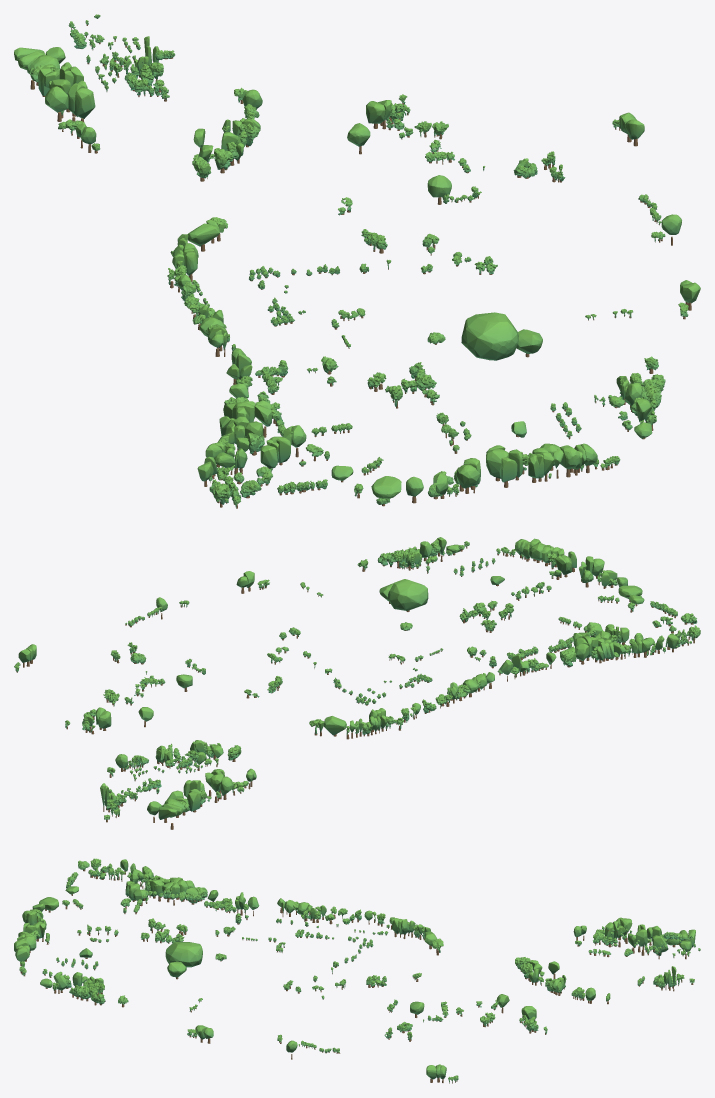
Rendered from trees_solid.glb.
3 renders of one model, top to bottom at view 1: azimuth 30°, elevation 25°; view 2: azimuth 150°, elevation 25°; view 3: azimuth 270°, elevation 25°, orthographic. The views are drawn at different scales.
Visible parts, largest first — view 1: crowns, trunks; view 2: crowns, trunks; view 3: crowns, trunks.
Part boxes in pixels (left/top/right/bottom): crowns: left=14, top=14, right=700, bottom=507; trunks: left=30, top=18, right=691, bottom=508; crowns: left=14, top=537, right=700, bottom=820; trunks: left=16, top=546, right=694, bottom=829; crowns: left=14, top=858, right=700, bottom=1082; trunks: left=20, top=869, right=699, bottom=1083.
Bounding box in the file's own units: 397 × 34.08 × 539.
